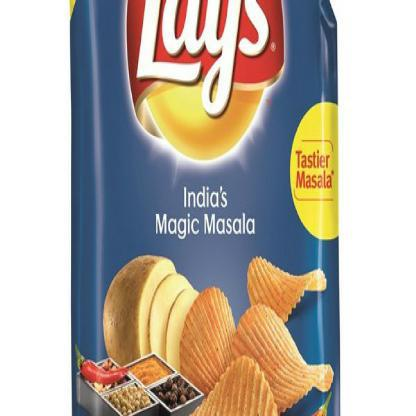indian_magic_masala: (69, 1, 338, 415)
